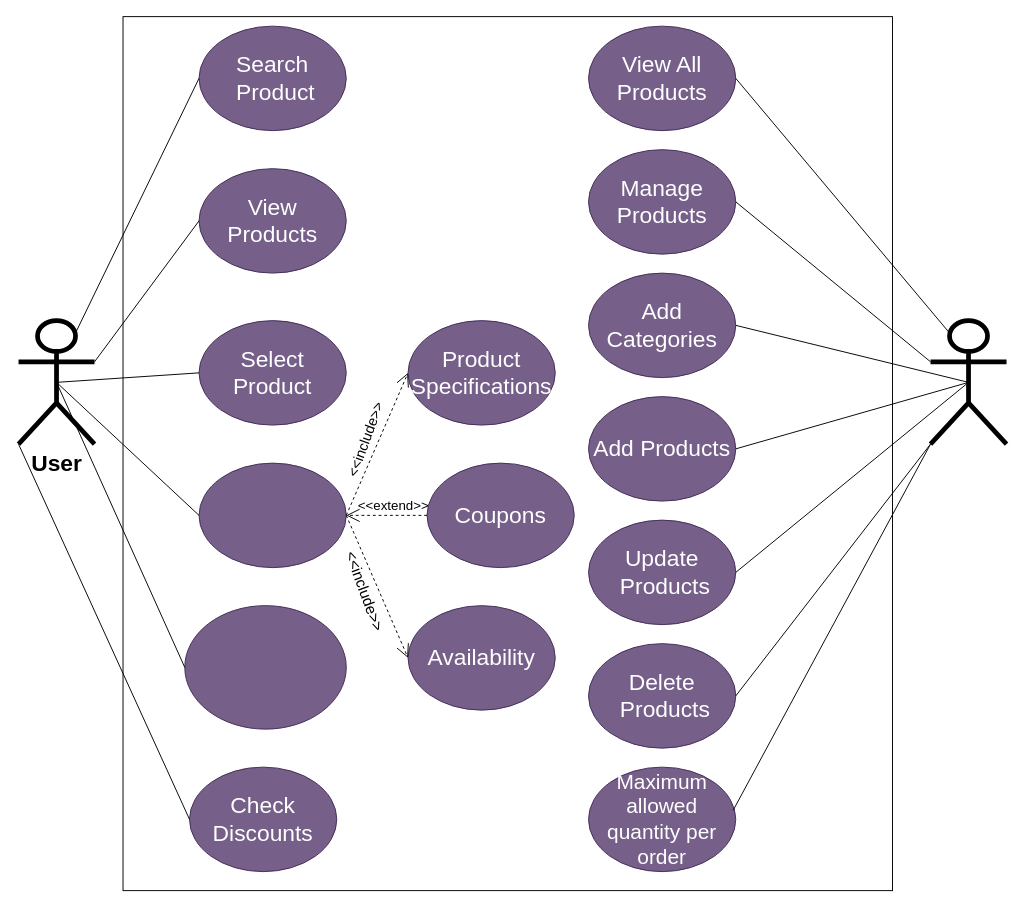
This 1025x907 diagram has some shape labels left out. Each missing label, with the centre of its shape:
"Admin" goes at point 968,382.
"View & Provide Reviews and Ratings" goes at point 265,667.
"View Product Descriptions" goes at point 272,515.
